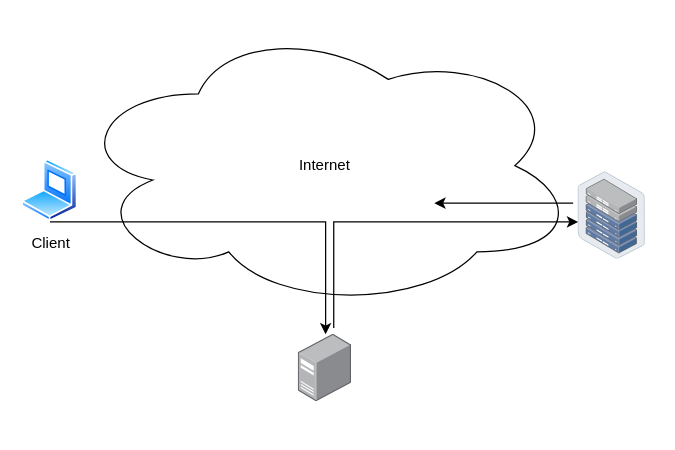
The diagram is 675 pixels wide and 450 high, and some of its shapes have lost their labels. Here are the shapes that lost their labels. From the top down, the box of each, then its label:
(578, 171, 645, 259): vpn gateway
(298, 334, 351, 401): Home network
